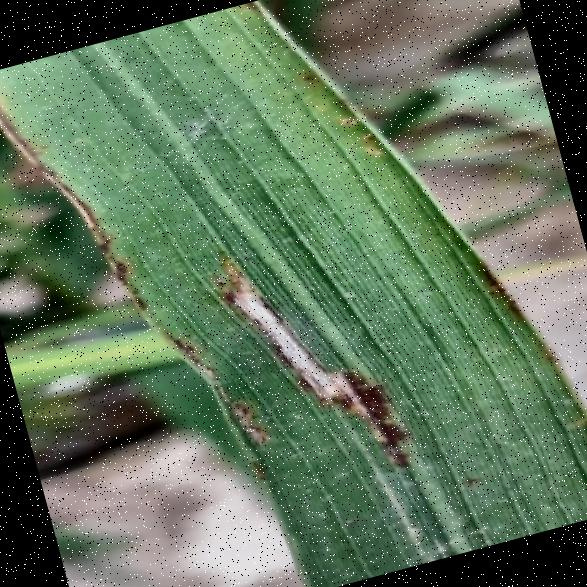Leaf_smut: (116, 227, 440, 540)
